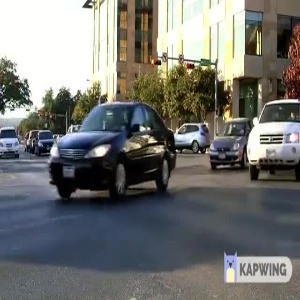car: (44, 92, 176, 210), (202, 114, 252, 171)
suv: (246, 95, 300, 191), (165, 118, 210, 152)
